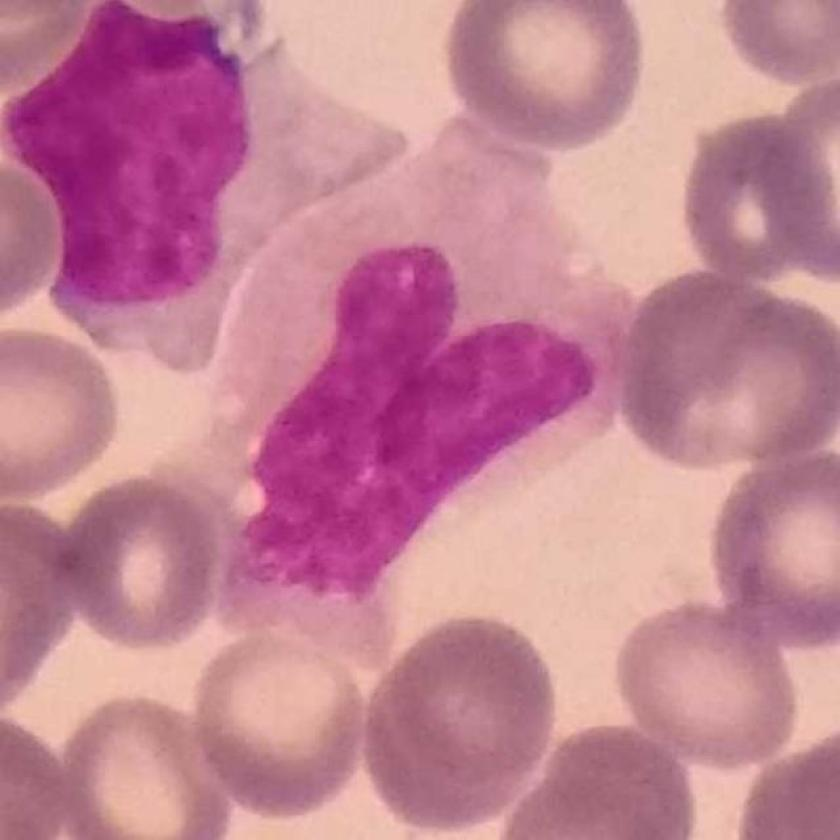monocyte: (215, 108, 648, 617)
